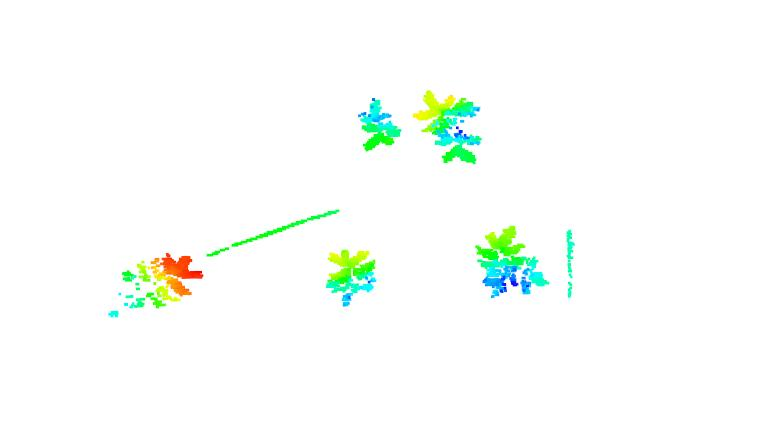chickpea: (108, 251, 208, 317), (476, 224, 550, 299), (414, 89, 485, 166), (325, 248, 378, 309), (356, 92, 401, 154)
